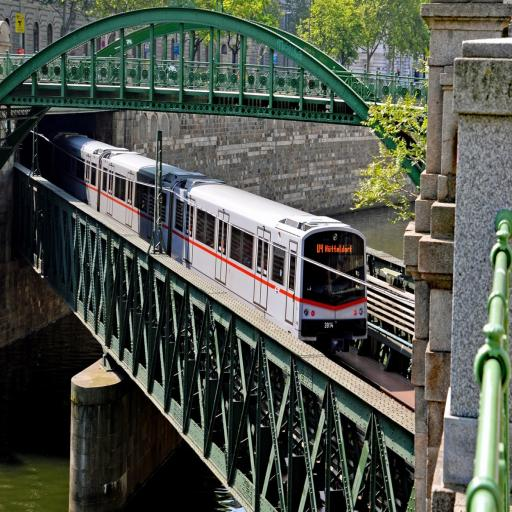V-Wagen: (26, 130, 368, 350)
